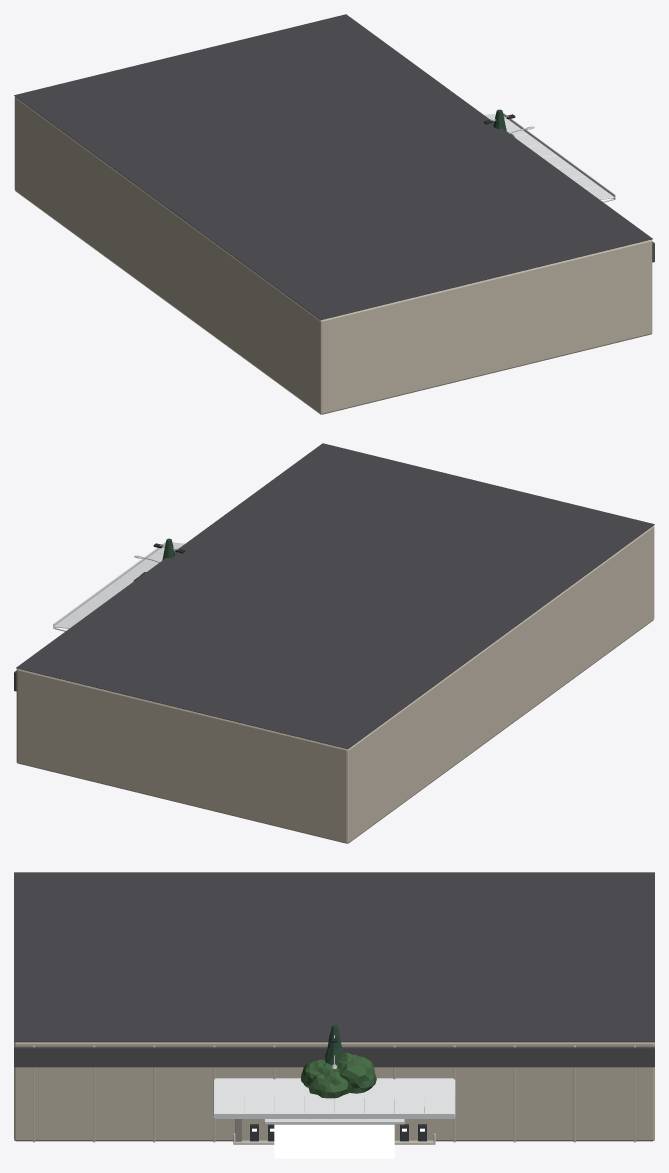
Rendered from blvd_kit.glb.
3 views of the same model, one above another, from view 1: azimuth 30°, elevation 25°; view 2: azimuth 150°, elevation 25°; view 3: azimuth 270°, elevation 25° (orthographic). The views are drawn at different scales.
Visible parts, largest first — view 1: ma_roof, ma_box, gs_roof; view 2: ma_roof, ma_box, gs_roof; view 3: ma_roof, ma_box, ma_band, gs_roof, ma_vest, bl_leaves, gs_fasc_f, ma_vcan, cf_needles.
Part boxes in pixels (box(x1,y1,x2,y2)): ma_roof: box(14, 14, 652, 320); ma_box: box(14, 96, 652, 414); gs_roof: box(484, 114, 614, 198); ma_roof: box(16, 443, 654, 749); ma_box: box(16, 525, 654, 843); gs_roof: box(54, 543, 184, 627); ma_roof: box(14, 872, 654, 1042); ma_box: box(14, 1042, 654, 1141); ma_band: box(14, 1046, 654, 1067); gs_roof: box(214, 1078, 454, 1113); ma_vest: box(274, 1124, 394, 1158); bl_leaves: box(301, 1052, 376, 1098); gs_fasc_f: box(214, 1113, 454, 1118); ma_vcan: box(264, 1119, 404, 1124); cf_needles: box(325, 1024, 343, 1065).
Bounding box in the file's own units: 47.06 × 12.87 × 64.
